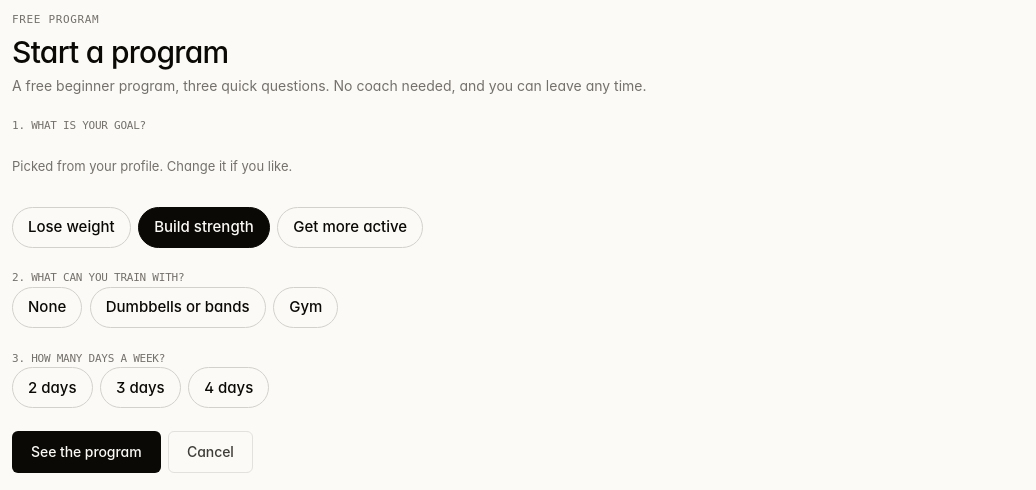
Test: StartFlow › offers a retry when the programs cannot be loaded
The image size is (1036, 490).
Click the radio button labelled "None": [47, 308] box [12,287,82,328]
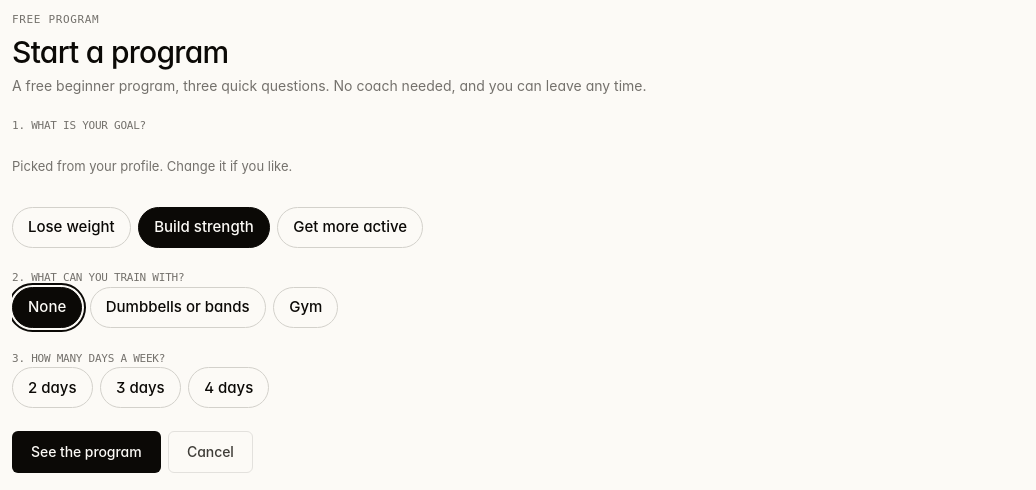
Click the radio button labelled "3 days": [140, 388] box [100,367,181,408]
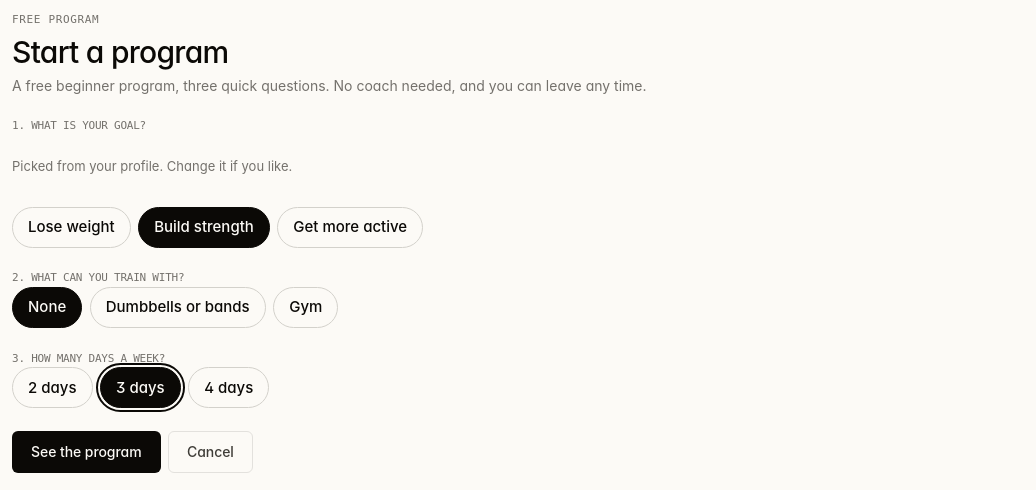
Click the button "See the program": [86, 452] box [12,431,160,473]
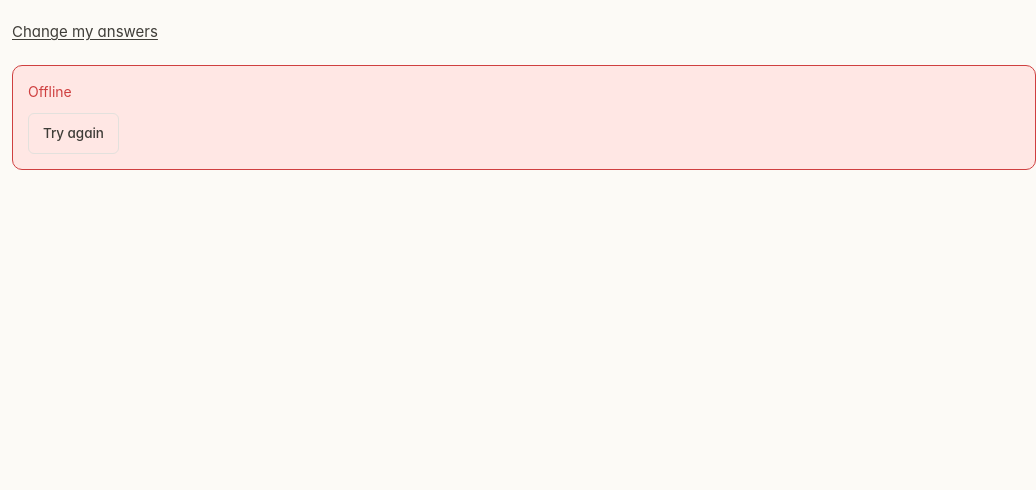
Check: the message shows "Offline", box [28,82,72,100]
